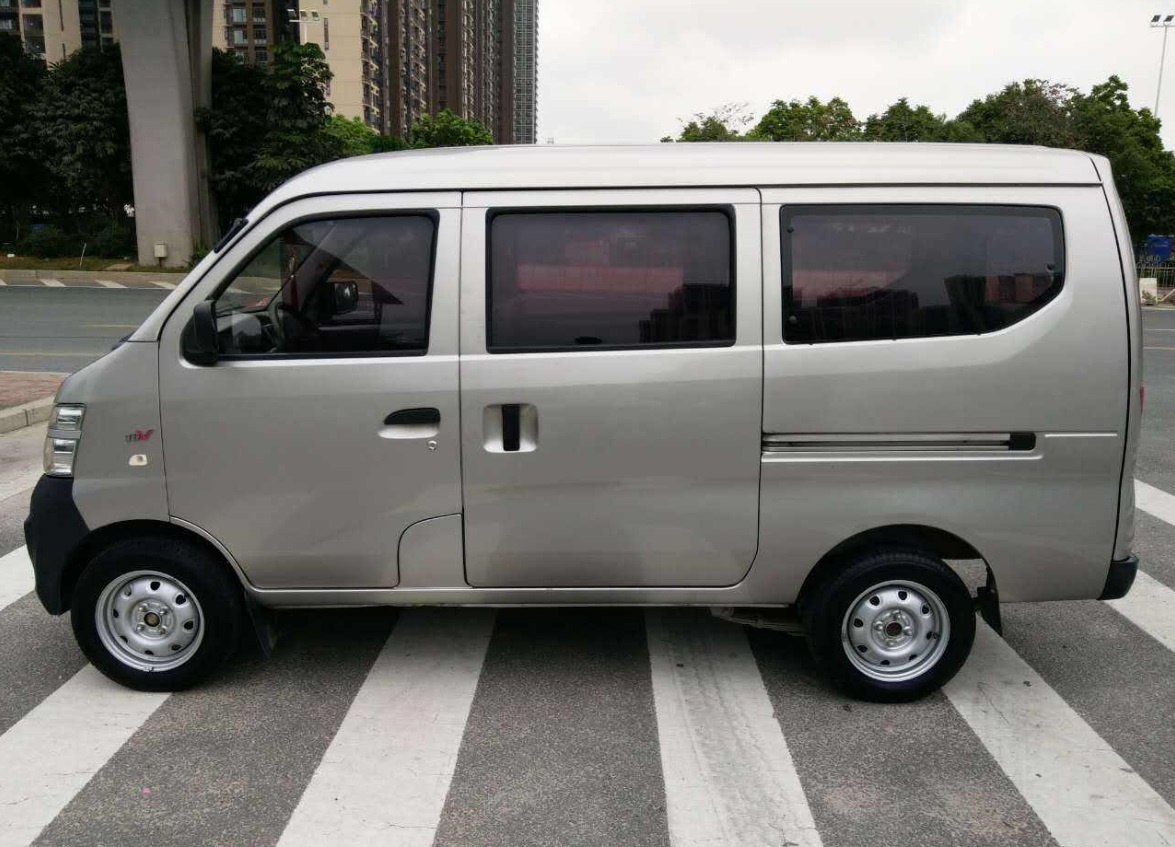minibus: (39, 110, 1148, 703)
